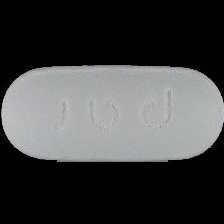42291-591: (0, 0, 224, 224)
